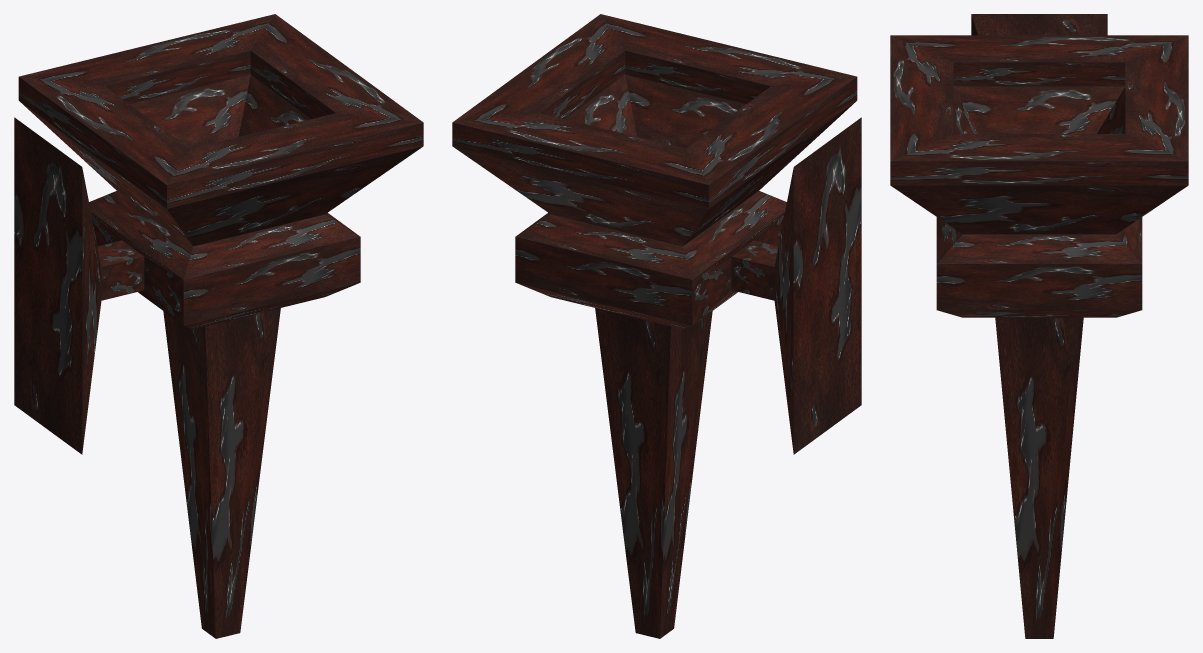
Rendered from WallTorch.FBX.
3 renders of one model, left to right at view 1: azimuth 30°, elevation 25°; view 2: azimuth 150°, elevation 25°; view 3: azimuth 270°, elevation 25°, orthographic.
Visible parts, largest first — view 1: Torch; view 2: Torch; view 3: Torch.
Part boxes in pixels (box(x1,y1,x2,y2)): Torch: box(14, 14, 423, 638); Torch: box(452, 14, 861, 638); Torch: box(890, 14, 1188, 638).
Bounding box in the file's own units: 22.8 × 38.44 × 19.44.
Materials: 1 (1 with a texture image).
